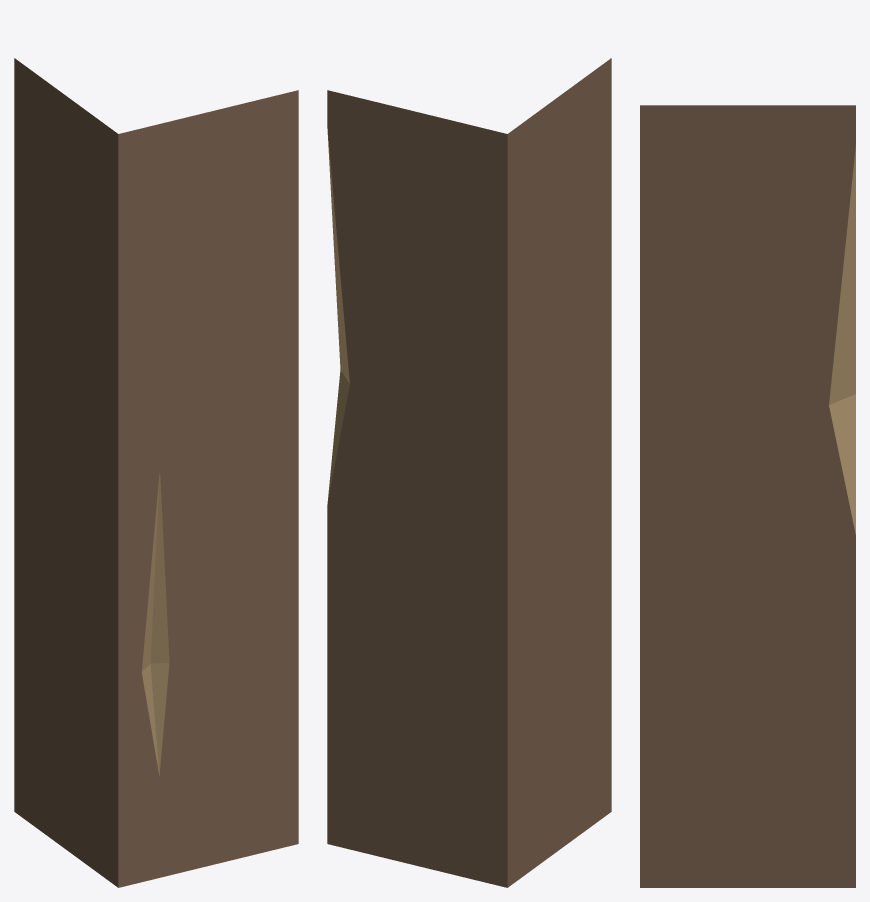
The model's file is Cave_Prop_Support_Wall_Pillar_2.glb.
3 views of the same model, side by side, from view 1: azimuth 30°, elevation 25°; view 2: azimuth 150°, elevation 25°; view 3: azimuth 270°, elevation 25° (orthographic). The views are drawn at different scales.
Parts seen in each view (by area): view 1: Cave_Prop_Support_Wall_Pillar_2; view 2: Cave_Prop_Support_Wall_Pillar_2; view 3: Cave_Prop_Support_Wall_Pillar_2.
Part boxes in pixels (x1,y1,x2,y2): Cave_Prop_Support_Wall_Pillar_2: (14, 58, 298, 887); Cave_Prop_Support_Wall_Pillar_2: (327, 58, 611, 887); Cave_Prop_Support_Wall_Pillar_2: (640, 105, 855, 887).
Size of the model in its own units: 0.25 by 1 by 0.25.
